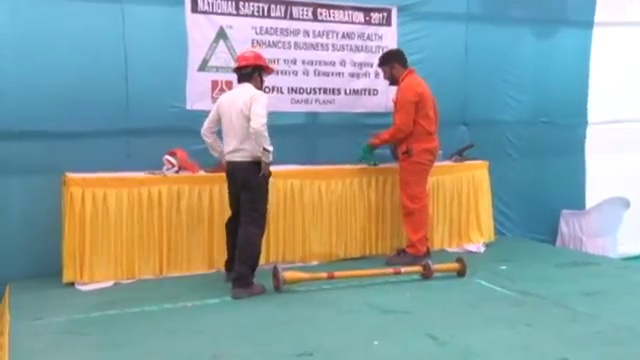helmet: (232, 48, 273, 76)
helmet_off: (375, 48, 410, 87)
helmet_on: (230, 47, 275, 84)
person: (201, 46, 276, 298), (367, 48, 439, 266)
